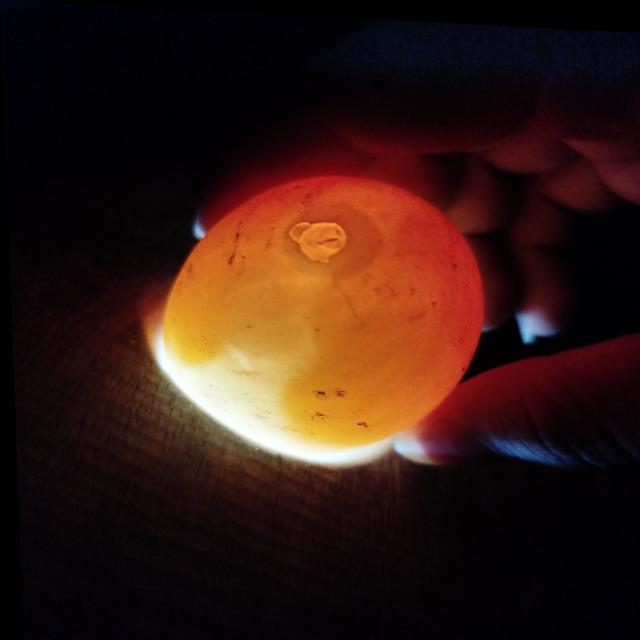Rachadura: (287, 218, 345, 260)
